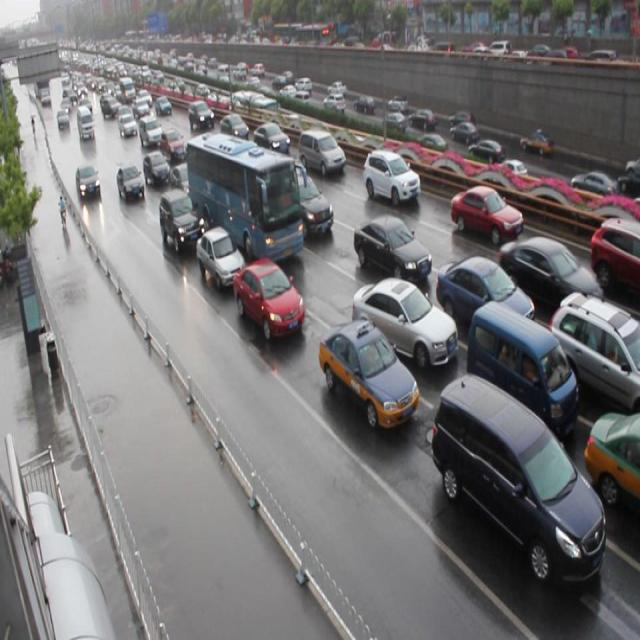car: (547, 289, 640, 411), (317, 318, 419, 427), (351, 276, 456, 372), (497, 235, 601, 317), (434, 253, 532, 337), (582, 411, 640, 518), (231, 256, 304, 338), (352, 212, 430, 282), (448, 183, 521, 242), (588, 216, 640, 296), (362, 148, 419, 206), (196, 224, 246, 288), (158, 188, 203, 252), (288, 176, 332, 236), (253, 120, 291, 157), (117, 162, 144, 202), (143, 150, 170, 188), (218, 112, 248, 143), (170, 162, 193, 200)
truck: (430, 374, 604, 584), (464, 298, 576, 429), (297, 128, 345, 175)
van: (186, 132, 302, 264)
